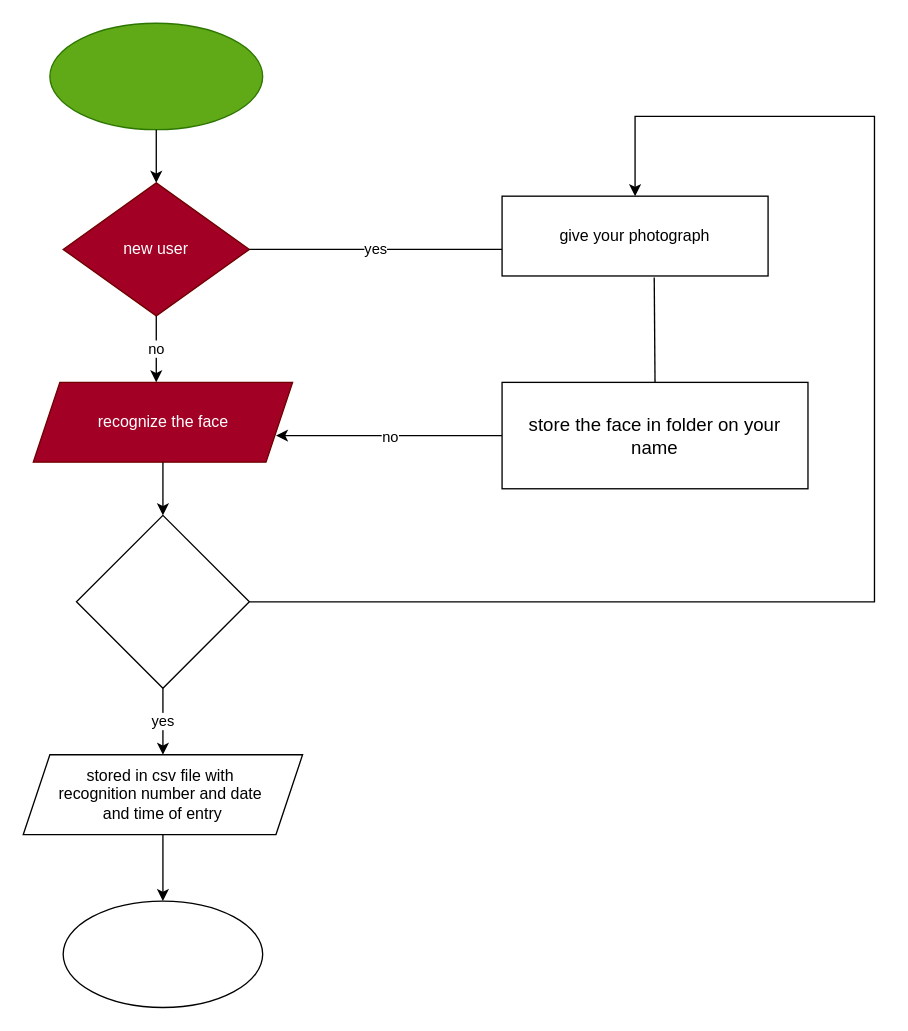
The diagram is 908 pixels wide and 1031 high, and some of its shapes have lost their labels. The box of each missing label's shape, as (x1, y1, x2, y2) in pixels:
end: (62, 900, 263, 1007)
face recognized: (75, 514, 249, 688)
start: (49, 22, 263, 130)
